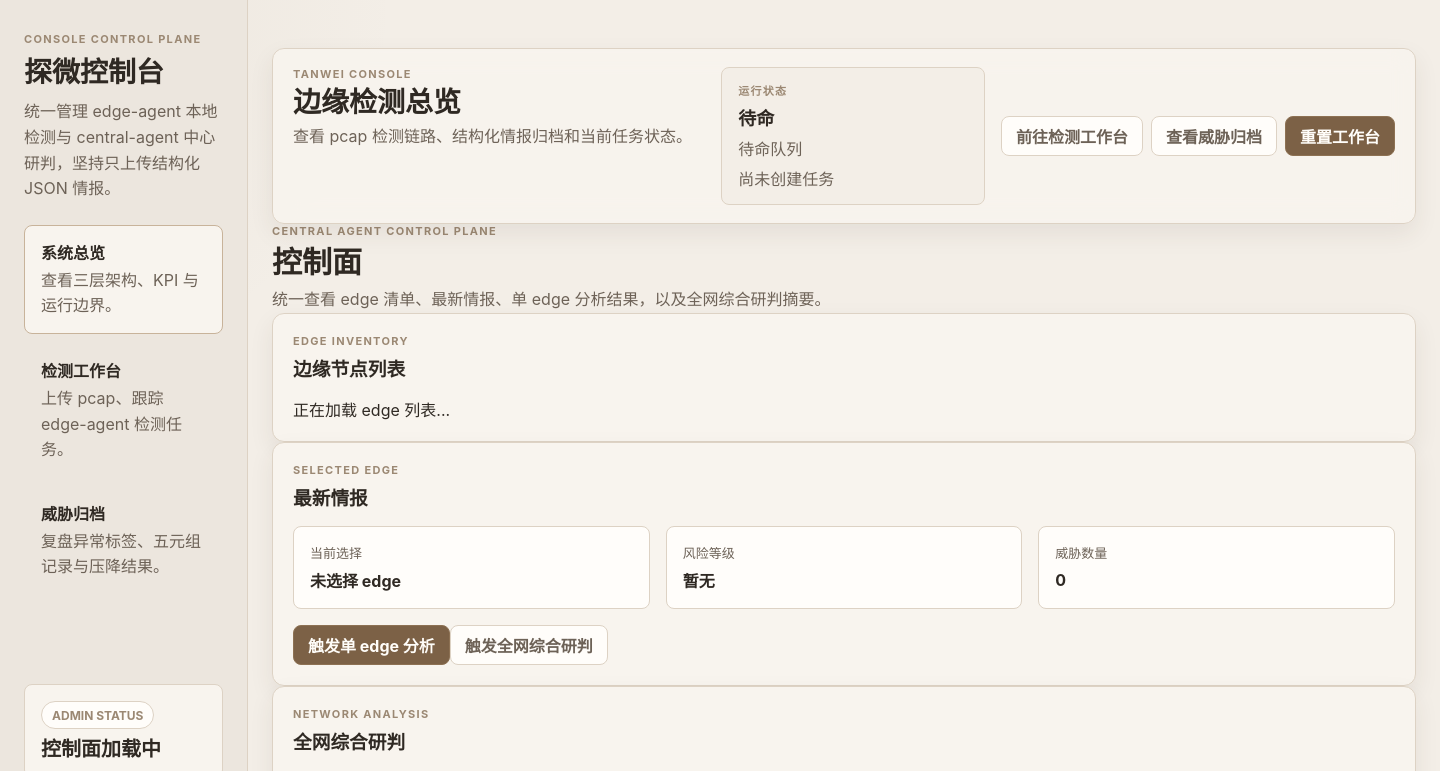
Scenario: App › shows the demo empty state when the sample library is empty
Click the button "检测工作台 上传 pcap、跟踪 edge-agent 检测任务。" at point(124, 410), box [24,343,223,478]
(page scrolled)
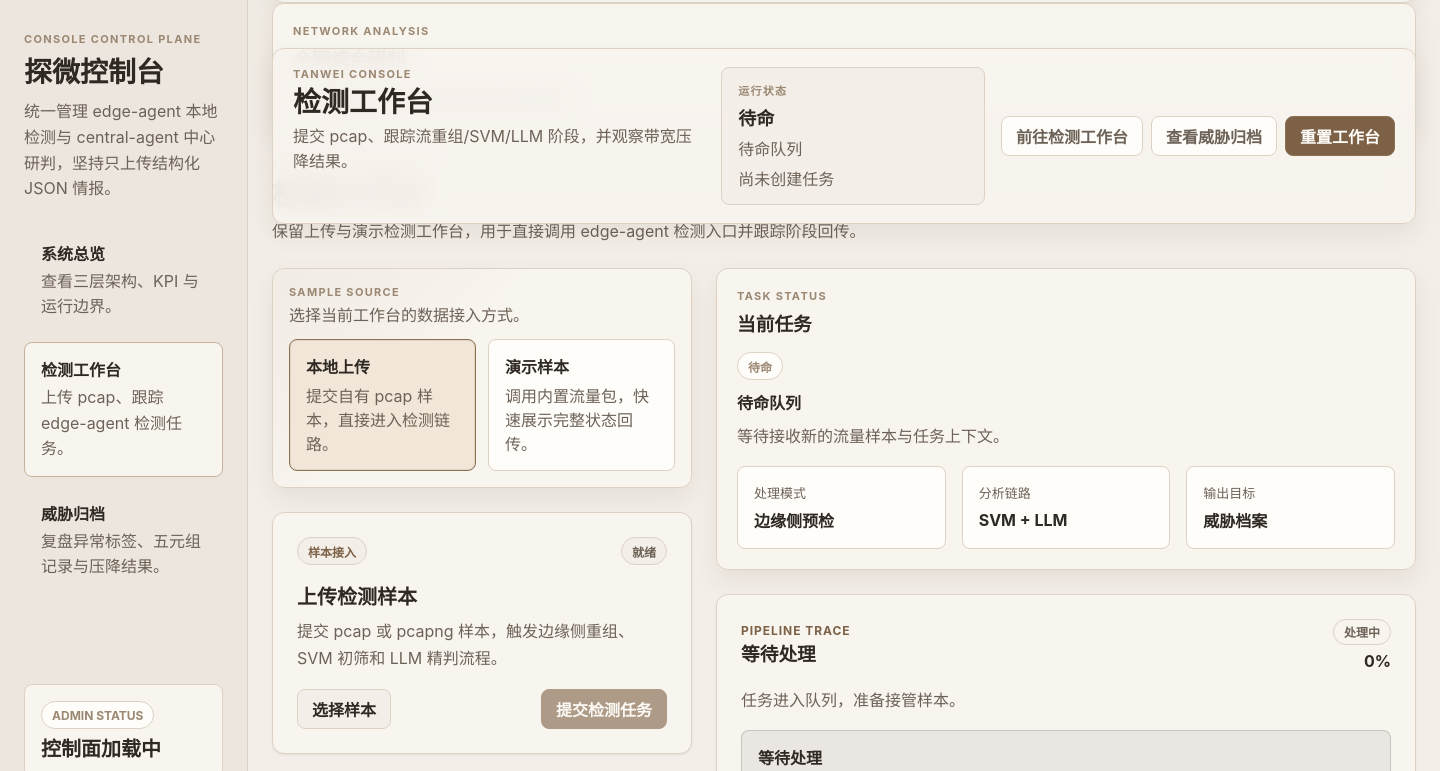
Click the button "演示样本 调用内置流量包，快速展示完整状态回传。" at point(582, 405), box [488,339,675,471]
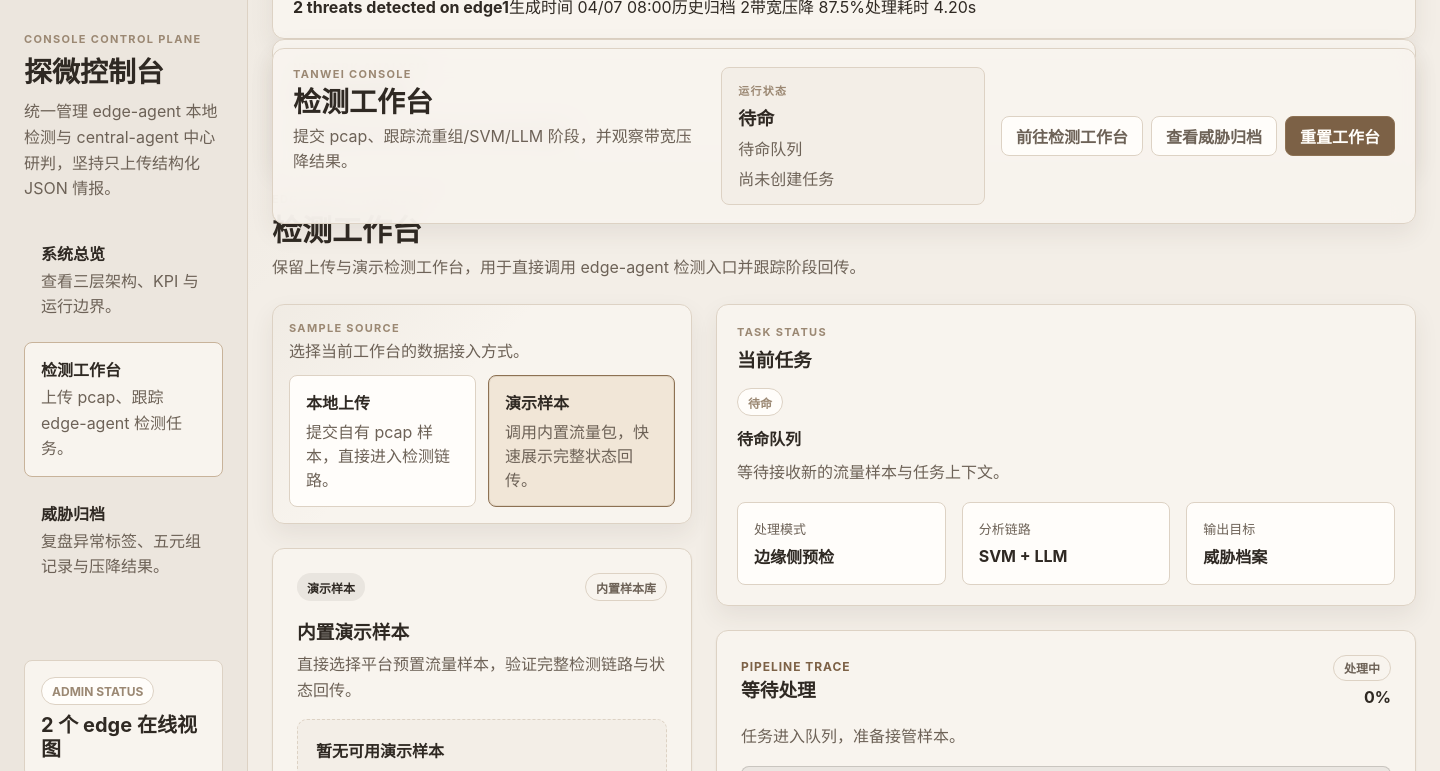
Now the text "暂无可用演示样本" is shown, box [316,741,444,761]
